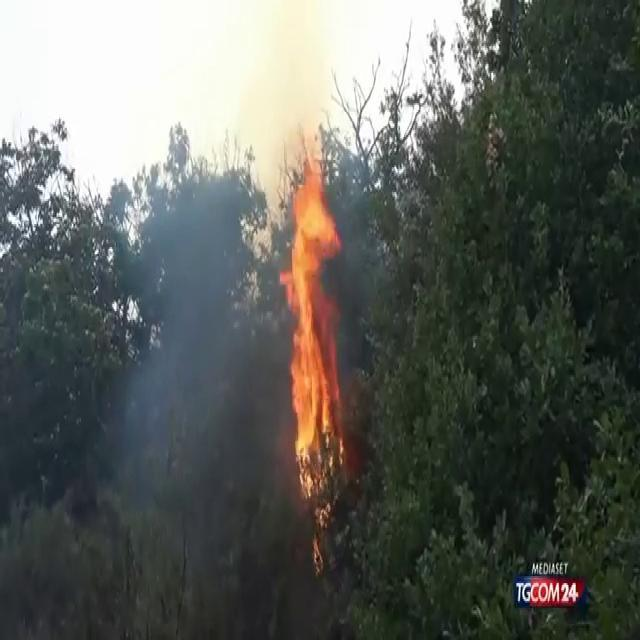Fire: (276, 159, 352, 549)
Smoke: (95, 146, 278, 624)
